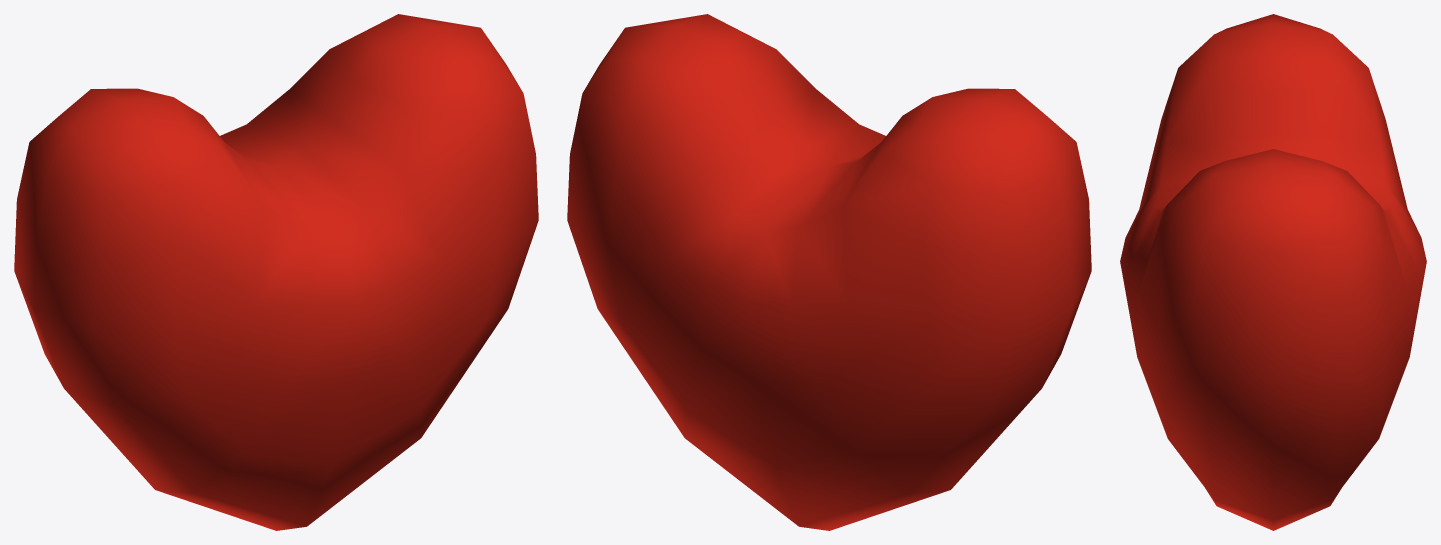
The model's file is heart.001.glb.
3 views of the same model, side by side, from view 1: azimuth 30°, elevation 25°; view 2: azimuth 150°, elevation 25°; view 3: azimuth 270°, elevation 25° (orthographic). The views are drawn at different scales.
Visible parts, largest first — view 1: heart.001; view 2: heart.001; view 3: heart.001.
Boxes of the visible parts, bbox=[...] form: heart.001: bbox=[14, 14, 538, 530]; heart.001: bbox=[567, 14, 1091, 530]; heart.001: bbox=[1120, 14, 1426, 530].
Bounding box in the file's own units: 1.8 × 1.65 × 1.05.
